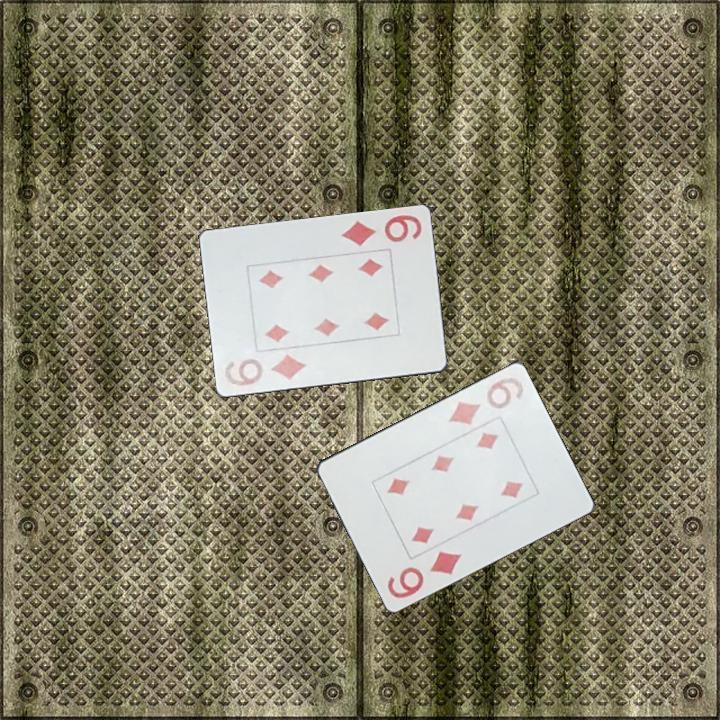6d: (445, 373, 527, 428), (384, 547, 465, 602), (337, 211, 425, 250), (219, 351, 309, 389)
